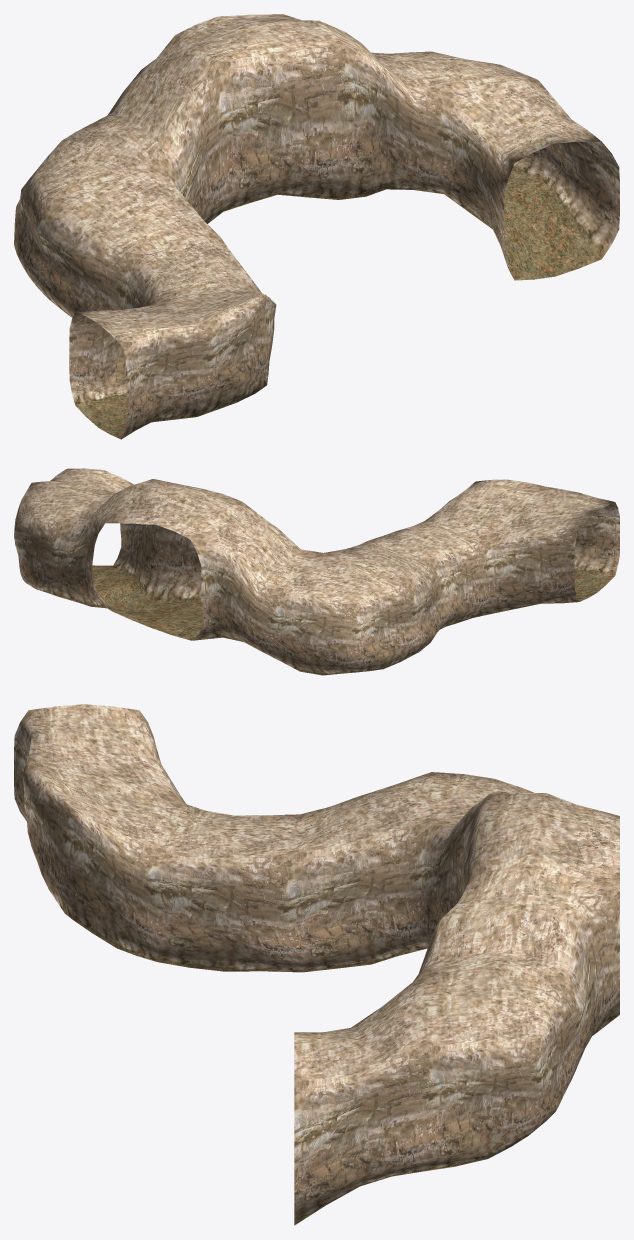
The model's file is thm_all_cave_s03_mirror_r25_mesh_r25.fbx.
3 renders of one model, top to bottom at view 1: azimuth 30°, elevation 25°; view 2: azimuth 150°, elevation 25°; view 3: azimuth 270°, elevation 25°, orthographic. The views are drawn at different scales.
Parts seen in each view (by area): view 1: mesh_node; view 2: mesh_node; view 3: mesh_node.
Boxes of the visible parts, left/top/right/bottom form: mesh_node: left=14, top=14, right=619, bottom=439; mesh_node: left=14, top=468, right=619, bottom=675; mesh_node: left=14, top=704, right=619, bottom=1225.
Size of the model in its own units: 48.48 by 17.17 by 34.59.
